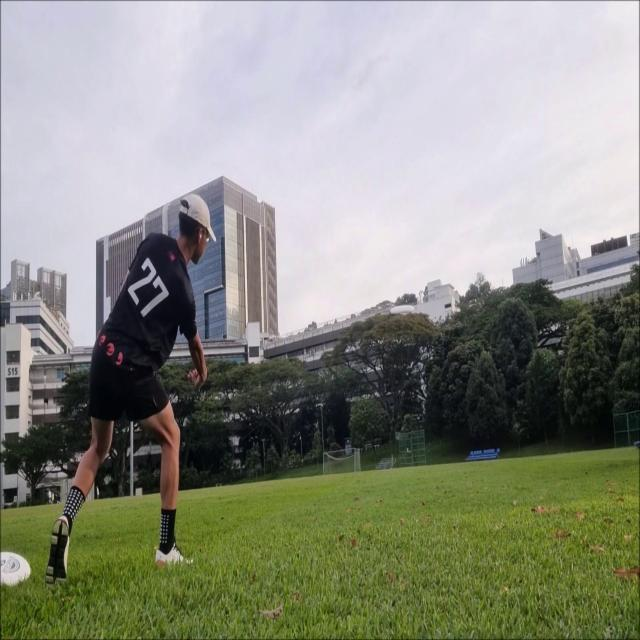disc: (389, 303, 415, 315)
